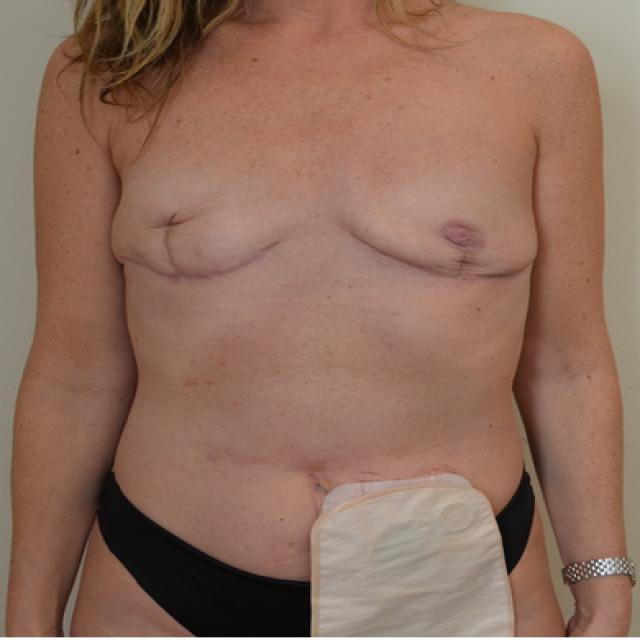Seno herido: (328, 146, 546, 302), (104, 146, 308, 302)
